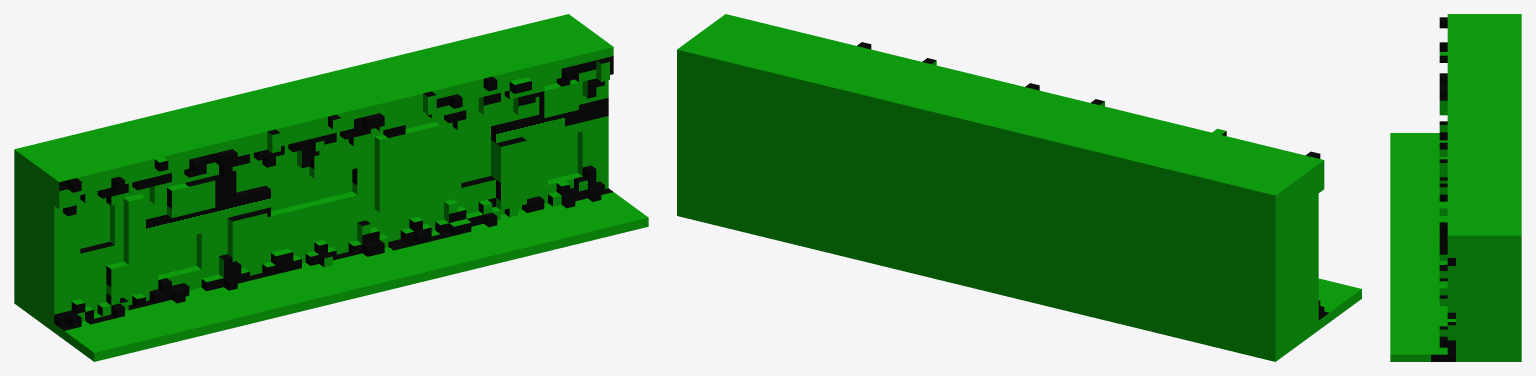
File: Straight5.fbx
3 renders of one model, left to right at view 1: azimuth 30°, elevation 25°; view 2: azimuth 150°, elevation 25°; view 3: azimuth 270°, elevation 25°, orthographic. The views are drawn at different scales.
Visible parts, largest first — view 1: Ground, Cliff; view 2: Cliff, Ground; view 3: Ground, Cliff.
Part boxes in pixels (bbox=[...]): Ground: bbox=[14, 14, 648, 361]; Cliff: bbox=[14, 79, 608, 332]; Cliff: bbox=[677, 59, 1318, 361]; Ground: bbox=[677, 14, 1361, 329]; Ground: bbox=[1390, 14, 1521, 361]; Cliff: bbox=[1447, 243, 1521, 361].
Size of the model in its own units: 64 by 17 by 16.
